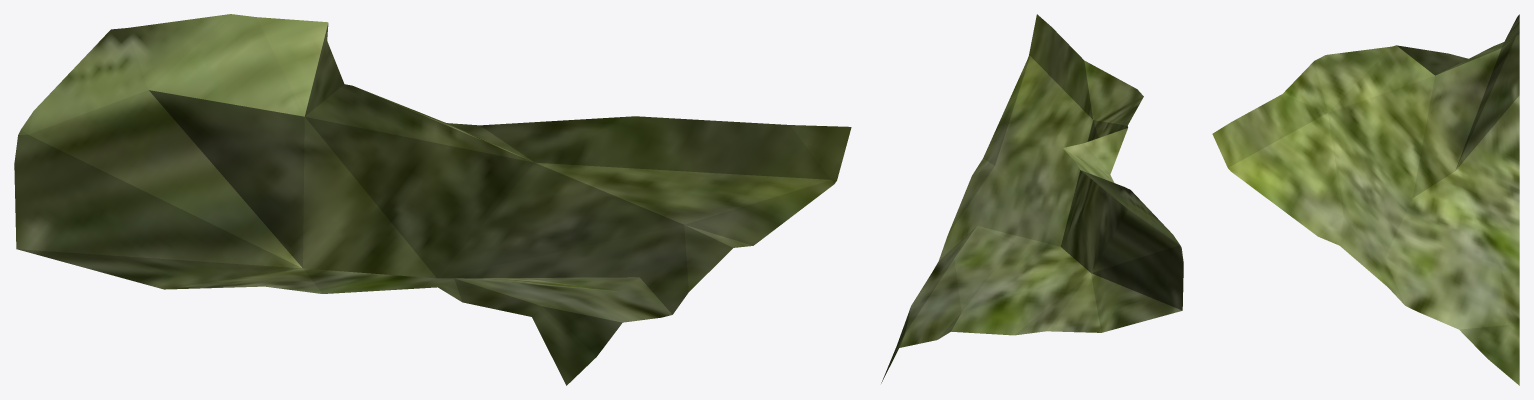
3 renders of one model, left to right at view 1: azimuth 30°, elevation 25°; view 2: azimuth 150°, elevation 25°; view 3: azimuth 270°, elevation 25°, orthographic. The views are drawn at different scales.
Size of the model in its own units: 0.9054 by 0.7329 by 0.8097.
Materials: 1 (1 with a texture image).
